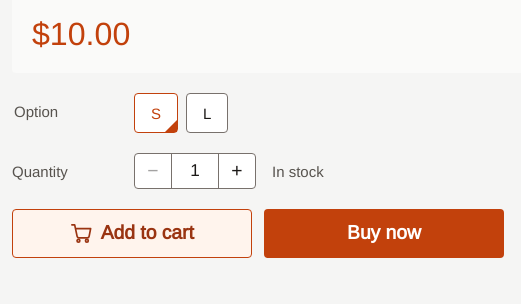
ProductPurchase › adds the chosen variant to the cart
Click the radio button labelled "L" at [207, 113], box [186, 93, 228, 133]
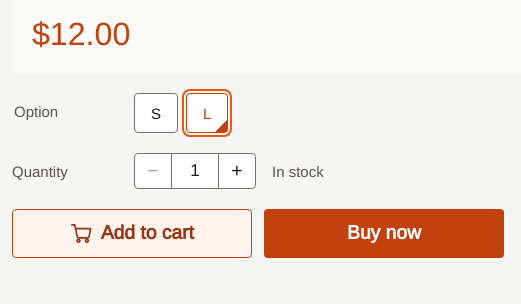
Check: the text "In stock" is shown, box [272, 160, 324, 182]
Check: the text "$12.00" is shown, box [32, 16, 130, 52]
Click the button named "Increase quantity" at [237, 171], box [219, 154, 255, 188]
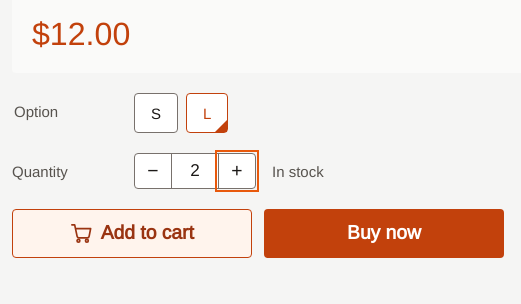
Click the button "Add to cart" at [132, 233], box [12, 209, 252, 258]
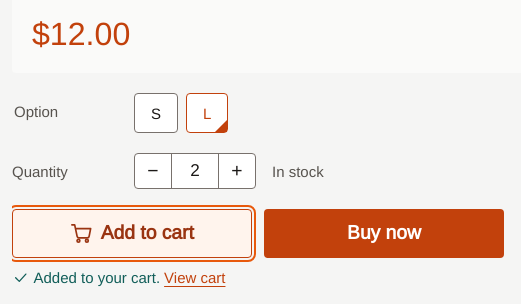
Check: the text "Added to your cart. View cart" is shown, box [12, 269, 226, 286]
